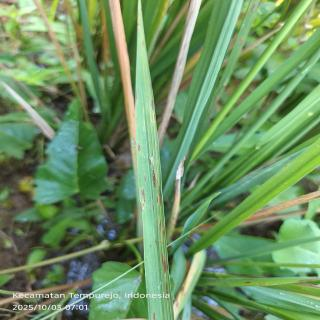Bercak-Cokelat-Sempit: (158, 251, 168, 278), (155, 183, 165, 209), (139, 186, 148, 214), (163, 280, 171, 301), (151, 167, 158, 189), (152, 112, 159, 125), (149, 97, 155, 112), (136, 140, 142, 154), (142, 173, 150, 183), (135, 87, 139, 107), (147, 155, 153, 166), (148, 81, 154, 91)
